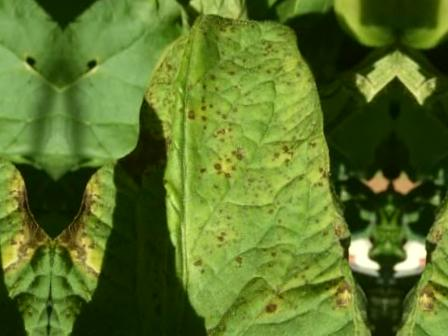Tomato Early blight leaf: (49, 0, 383, 336)
